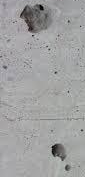Spalling: (19, 2, 60, 34), (51, 143, 67, 161), (64, 164, 71, 171)
